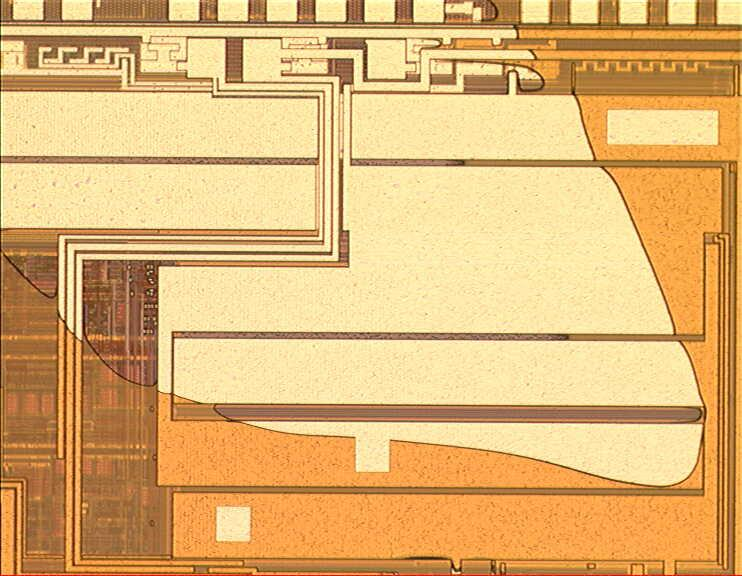COATING BAD: (2, 1, 711, 491)
